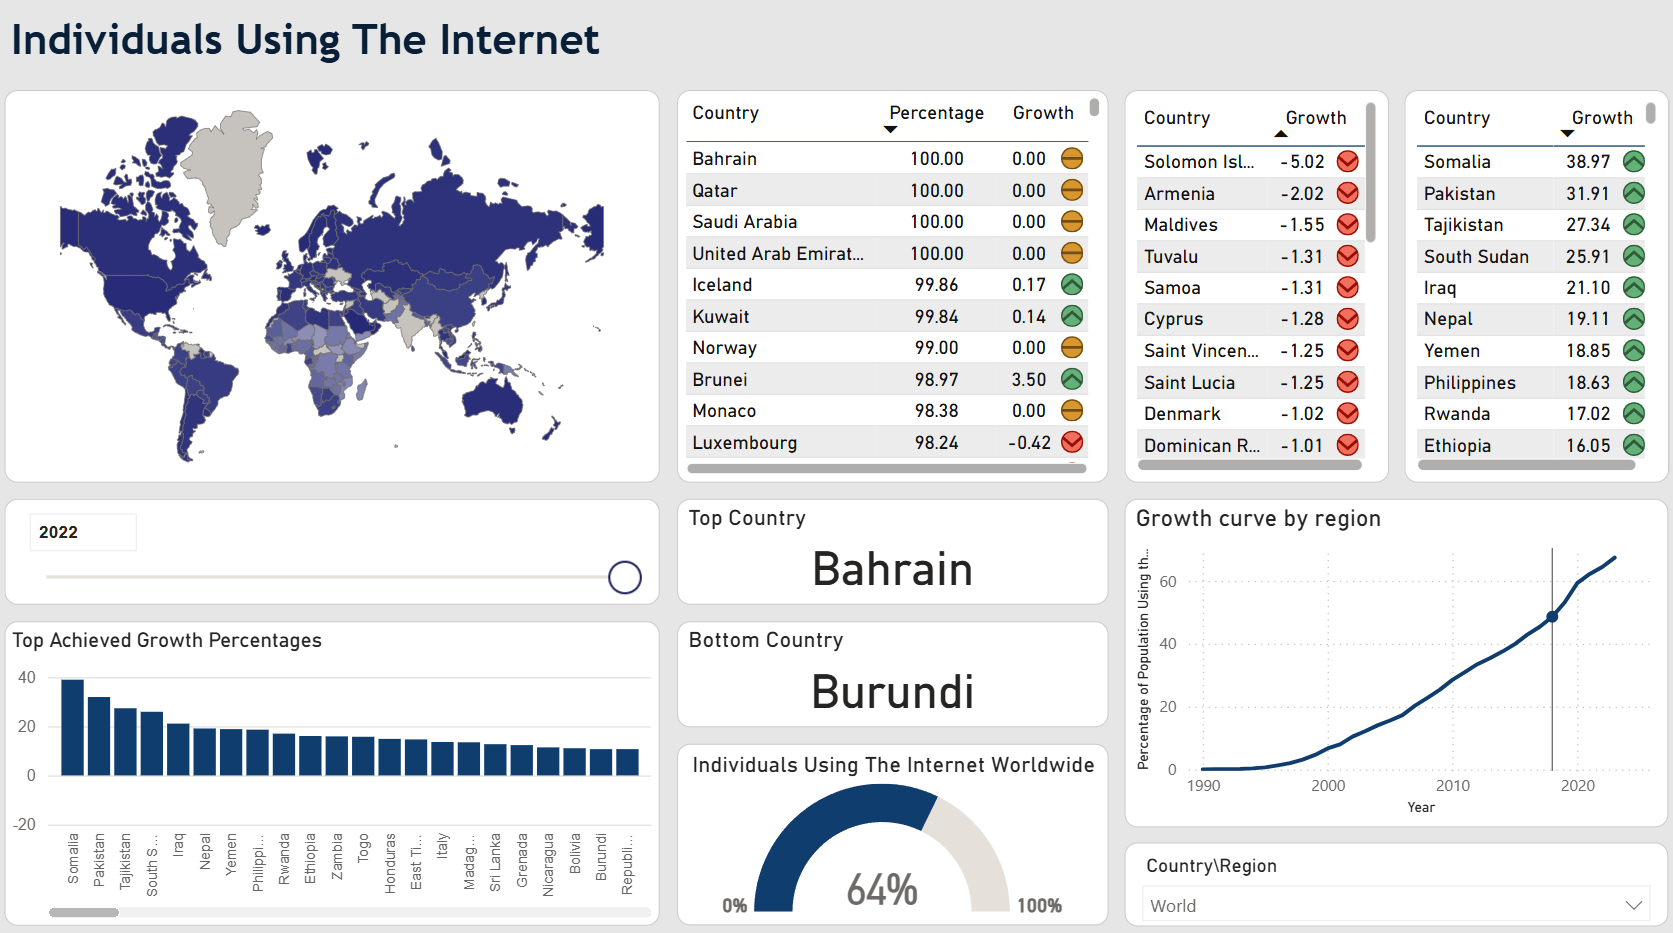

This screenshot's page, from the dashboard's own definition file:
{"tool":"powerbi","page":{"name":"Page 1","canvas":[1280,720],"ordinal":0},"visuals":[{"type":"slicer","title":"Year","fields":{"Values":["Parameter.Parameter"]},"box":[6.1,384.1,499.4,81],"z":0},{"type":"shapeMap","title":"Individuals using the Internet (% of population)","fields":{"Category":["share-of-individuals-using-the-internet.Entity"],"Value":["Sum(share-of-individuals-using-the-internet.Individuals using the Internet (% of population))"]},"box":[6.1,72.4,499.4,299.4],"z":1000},{"type":"tableEx","title":"Top Countries","fields":{"Values":["share-of-individuals-using-the-internet.Entity","Median(share-of-individuals-using-the-internet.Individuals using the Internet (% of population))","share-of-individuals-using-the-internet.YoY Growth (%)"]},"box":[517.8,72.4,328.8,299.4],"z":2000},{"type":"slicer","title":"Country","fields":{"Values":["share-of-individuals-using-the-internet.Entity"]},"box":[858.9,645.4,414.7,63.8],"z":3000},{"type":"columnChart","title":"Top Growth Percentages","fields":{"Category":["share-of-individuals-using-the-internet.Entity"],"Y":["share-of-individuals-using-the-internet.YoY Growth (%)"]},"box":[6.1,477.3,499.4,231.9],"z":4000},{"type":"lineChart","title":"Growth curve by region","fields":{"Category":["share-of-individuals-using-the-internet.Year"],"Y":["Sum(share-of-individuals-using-the-internet.% of Population)"]},"box":[858.9,384.1,414.7,250.3],"z":5000},{"type":"tableEx","title":"Declining Countries","fields":{"Values":["share-of-individuals-using-the-internet.Entity","share-of-individuals-using-the-internet.YoY Growth (%)"]},"box":[858.9,72.4,201.2,299.4],"z":6000},{"type":"gauge","title":"Individuals on The Internet  Worldwide","fields":{"Y":["share-of-individuals-using-the-internet.GaugePercentage"]},"box":[517.8,570.6,328.8,138.7],"z":7000},{"type":"card","title":"Top Country","fields":{"Values":["Min(share-of-individuals-using-the-internet.Entity)"]},"box":[517.8,384.1,328.8,81],"z":8000},{"type":"card","title":"Bottom Country","fields":{"Values":["Min(share-of-individuals-using-the-internet.Entity)"]},"box":[517.8,477.3,328.8,81],"z":9000},{"type":"tableEx","title":"Declining Countries","fields":{"Values":["share-of-individuals-using-the-internet.Entity","share-of-individuals-using-the-internet.YoY Growth (%)"]},"box":[1072.4,72.4,201.2,299.4],"z":10000},{"type":"textbox","box":[6.1,9.8,458.9,52.8],"z":11000}]}

Visuals, with their boxes in screenshot pixels (x1, y1, x2, y2), scaled from the page's 1280x720 canvas onto the 1673x933 screenshot:
"Year" slicer: bbox=(8, 498, 661, 603)
"Individuals using the Internet (% of population)" shapeMap: bbox=(8, 94, 661, 482)
"Top Countries" tableEx: bbox=(677, 94, 1107, 482)
"Country" slicer: bbox=(1123, 836, 1665, 919)
"Top Growth Percentages" columnChart: bbox=(8, 619, 661, 919)
"Growth curve by region" lineChart: bbox=(1123, 498, 1665, 822)
"Declining Countries" tableEx: bbox=(1123, 94, 1386, 482)
"Individuals on The Internet  Worldwide" gauge: bbox=(677, 739, 1107, 919)
"Top Country" card: bbox=(677, 498, 1107, 603)
"Bottom Country" card: bbox=(677, 619, 1107, 723)
"Declining Countries" tableEx: bbox=(1402, 94, 1665, 482)
textbox: bbox=(8, 13, 608, 81)
